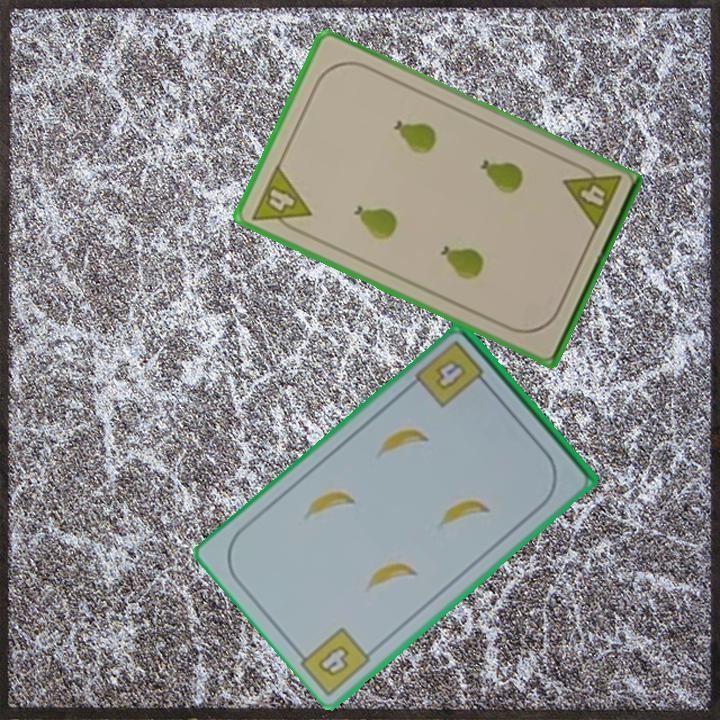4b: (412, 337, 493, 411), (313, 642, 352, 680)
4p: (248, 161, 314, 238), (560, 158, 624, 235)
